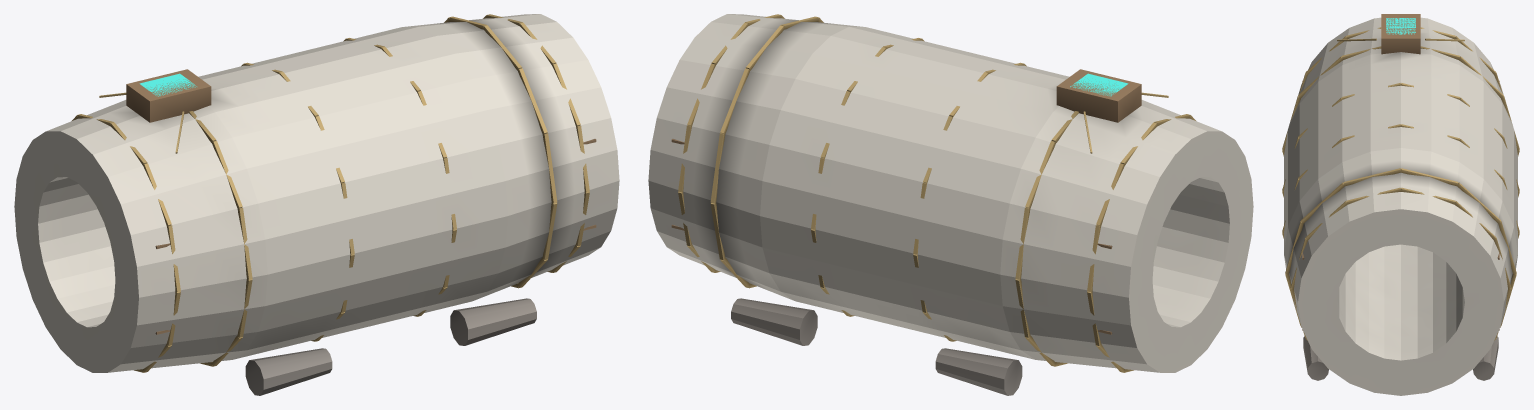
File: 03_cargo_zeppelin.glb
3 renders of one model, left to right at view 1: azimuth 30°, elevation 25°; view 2: azimuth 150°, elevation 25°; view 3: azimuth 270°, elevation 25°, orthographic. The views are drawn at different scales.
Parts seen in each view (by area): view 1: cargo_zeppelin_envelope_nocol, cargo_zeppelin_brass_nocol, cargo_zeppelin_envelopedark, cargo_zeppelin_wood, cargo_zeppelin_glowteal_nocol; view 2: cargo_zeppelin_envelope_nocol, cargo_zeppelin_brass_nocol, cargo_zeppelin_envelopedark, cargo_zeppelin_wood, cargo_zeppelin_glowteal_nocol; view 3: cargo_zeppelin_envelope_nocol, cargo_zeppelin_brass_nocol, cargo_zeppelin_wood, cargo_zeppelin_envelopedark, cargo_zeppelin_glowteal_nocol.
Boxes of the visible parts, <box> form: cargo_zeppelin_envelope_nocol: <box>14,14,619,372</box>; cargo_zeppelin_brass_nocol: <box>72,14,589,372</box>; cargo_zeppelin_envelopedark: <box>245,298,536,395</box>; cargo_zeppelin_wood: <box>126,69,211,122</box>; cargo_zeppelin_glowteal_nocol: <box>139,73,196,96</box>; cargo_zeppelin_envelope_nocol: <box>648,14,1253,372</box>; cargo_zeppelin_brass_nocol: <box>678,14,1195,372</box>; cargo_zeppelin_envelopedark: <box>731,298,1022,395</box>; cargo_zeppelin_wood: <box>1056,69,1141,122</box>; cargo_zeppelin_glowteal_nocol: <box>1070,73,1128,96</box>; cargo_zeppelin_envelope_nocol: <box>1284,17,1517,395</box>; cargo_zeppelin_brass_nocol: <box>1282,27,1519,340</box>; cargo_zeppelin_wood: <box>1381,14,1420,54</box>; cargo_zeppelin_envelopedark: <box>1303,336,1498,380</box>; cargo_zeppelin_glowteal_nocol: <box>1386,18,1415,34</box>.
Size of what is drawn, in the model's own units: 94 by 52.7 by 48.68.
